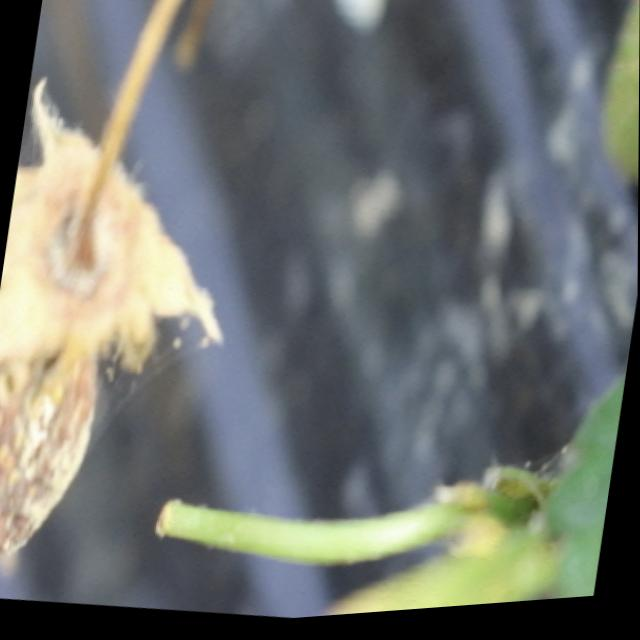Gray Mold: (0, 74, 222, 563)
